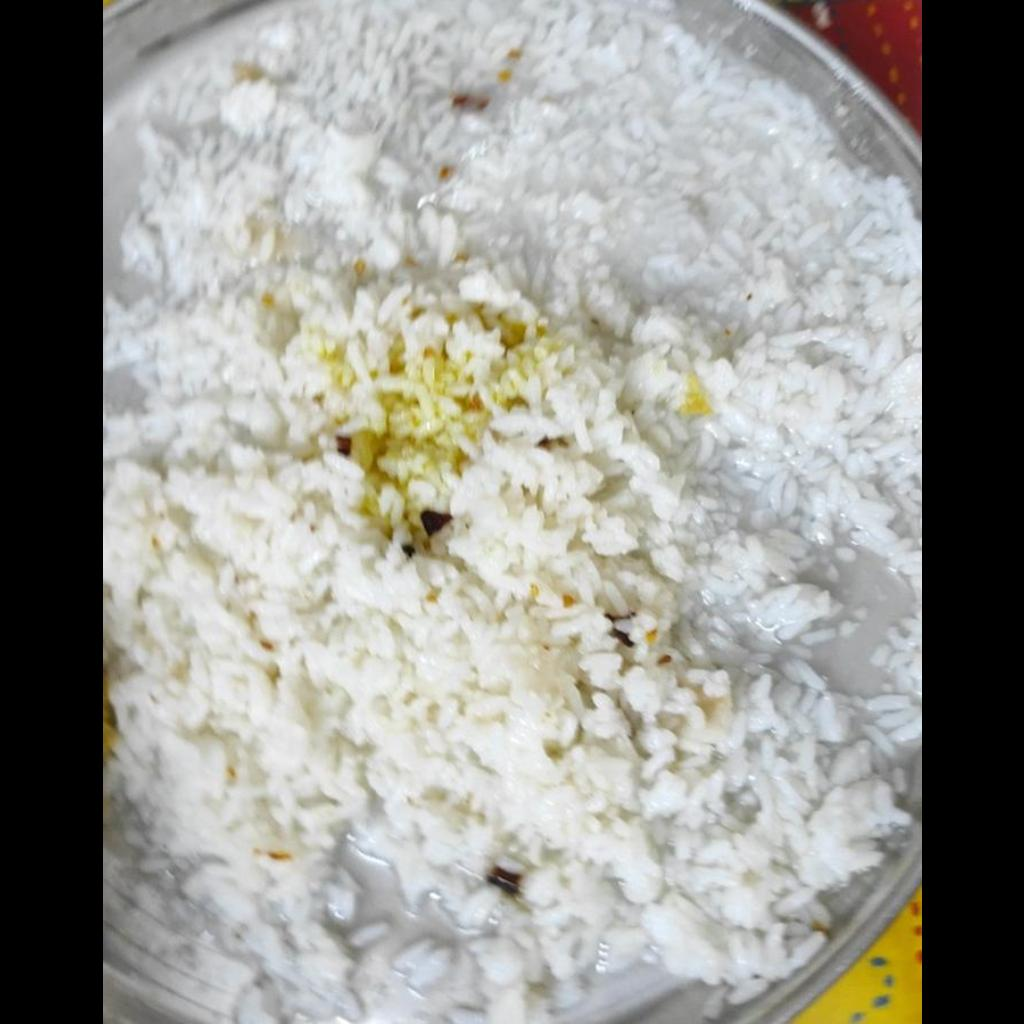rice: (109, 2, 920, 1022)
